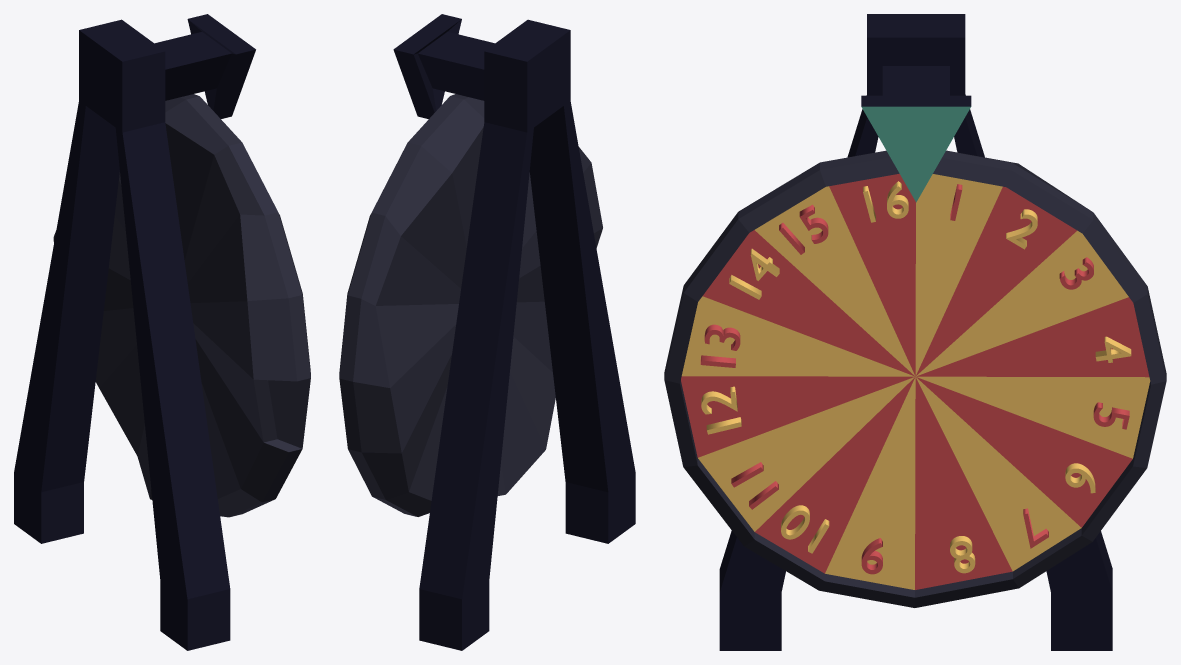
File: SpinnerComplete.fbx
The picture shows the model from 3 angles, left to right: view 1: azimuth 30°, elevation 25°; view 2: azimuth 150°, elevation 25°; view 3: azimuth 270°, elevation 25°; orthographic projection. The views are drawn at different scales.
Parts seen in each view (by area): view 1: stand, Spinny; view 2: stand, Spinny; view 3: Spinny, stand.
Boxes of the visible parts, left/top/right/bottom form: stand: left=14, top=14, right=255, bottom=650; Spinny: left=53, top=94, right=310, bottom=517; stand: left=393, top=14, right=635, bottom=650; Spinny: left=339, top=94, right=602, bottom=516; Spinny: left=664, top=150, right=1166, bottom=607; stand: left=719, top=14, right=1112, bottom=650.
Bounding box in the file's own units: 78.13 × 308 × 229.
